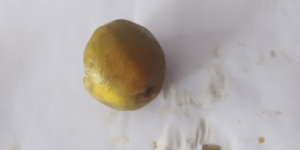BAD: (82, 16, 167, 116)
